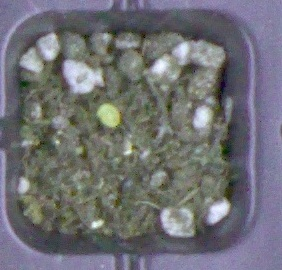chilli seed: (96, 102, 120, 127)
